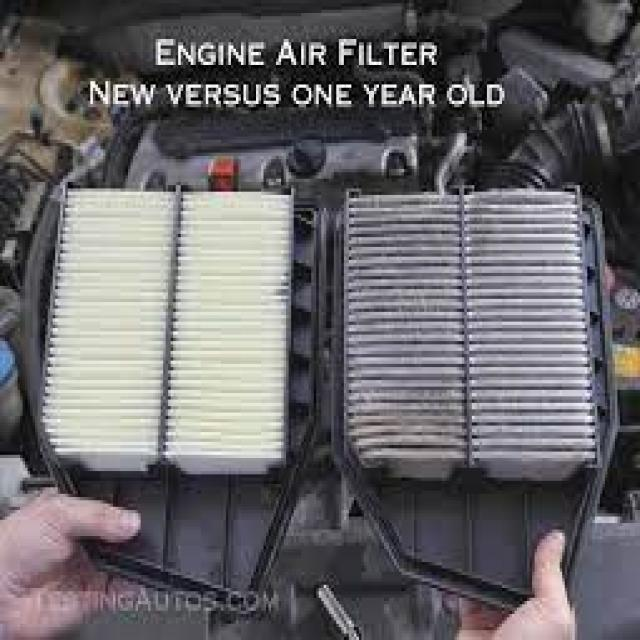air_filter: (36, 183, 302, 490), (338, 186, 598, 484)
